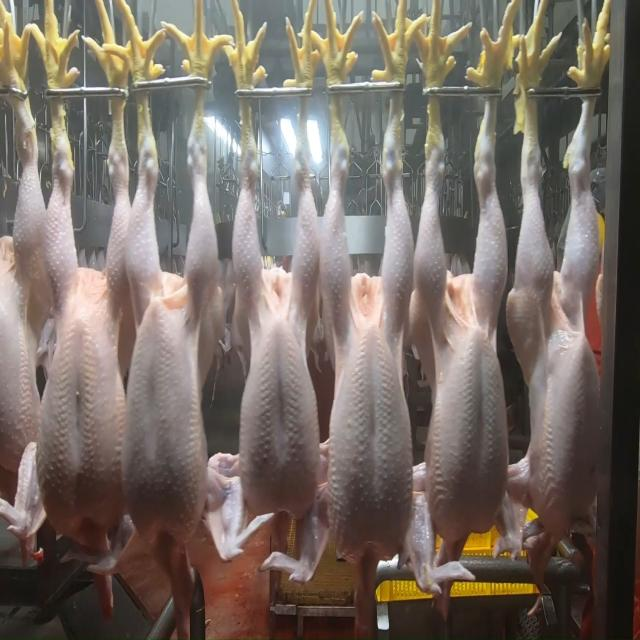chicken: (128, 96, 224, 562), (321, 131, 416, 559), (510, 118, 602, 548), (42, 112, 130, 552), (232, 133, 320, 528), (425, 128, 506, 550), (0, 116, 54, 490)
